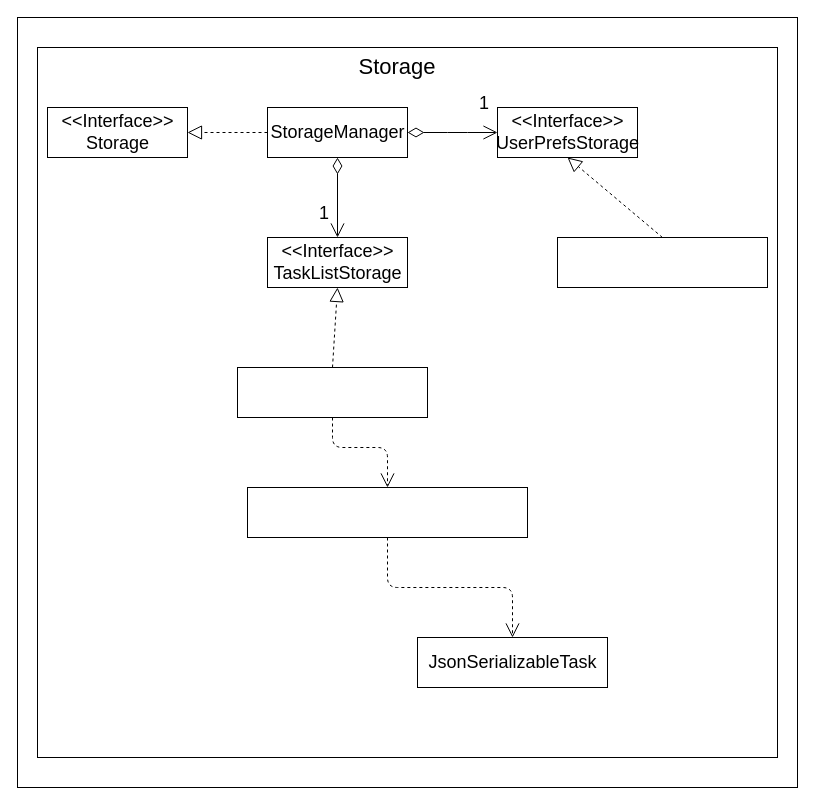
Image size: 815x805. Some labels were removed from this diagram. Here are the shapes that lost their labels. From the top down, the centre of each, then its label:
At point 662,262: "JsonUserPrefsStorage".
At point 332,392: "JsonTaskListStorage".
At point 387,512: "JsonSerializableTaskListStorage".
